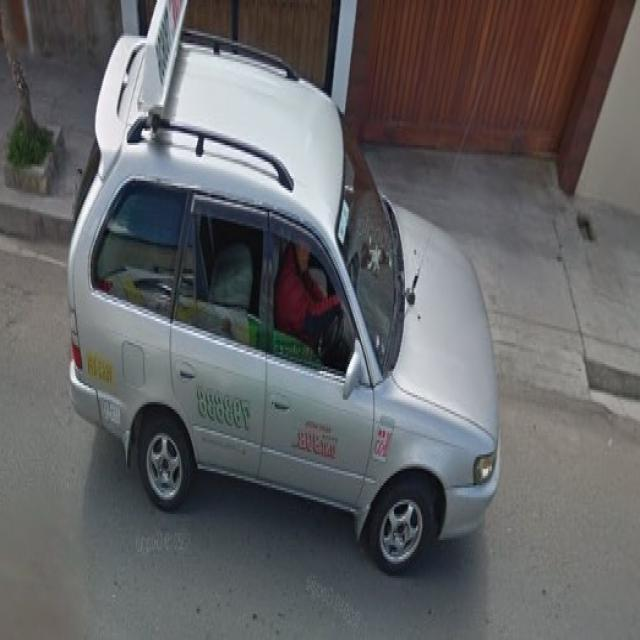car: (66, 1, 503, 575)
